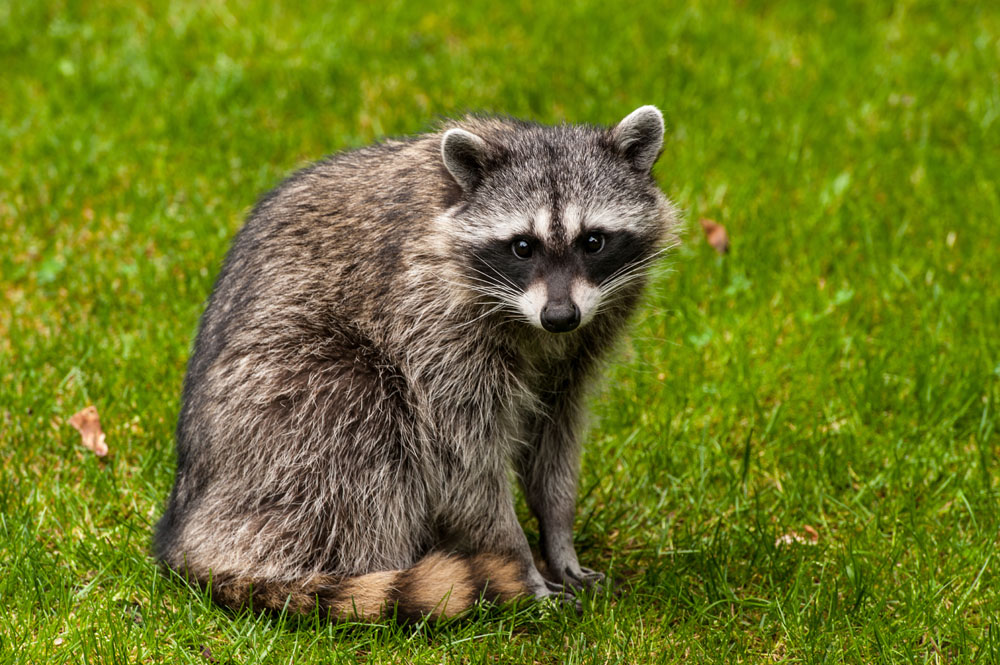raccoon: (133, 103, 692, 635)
